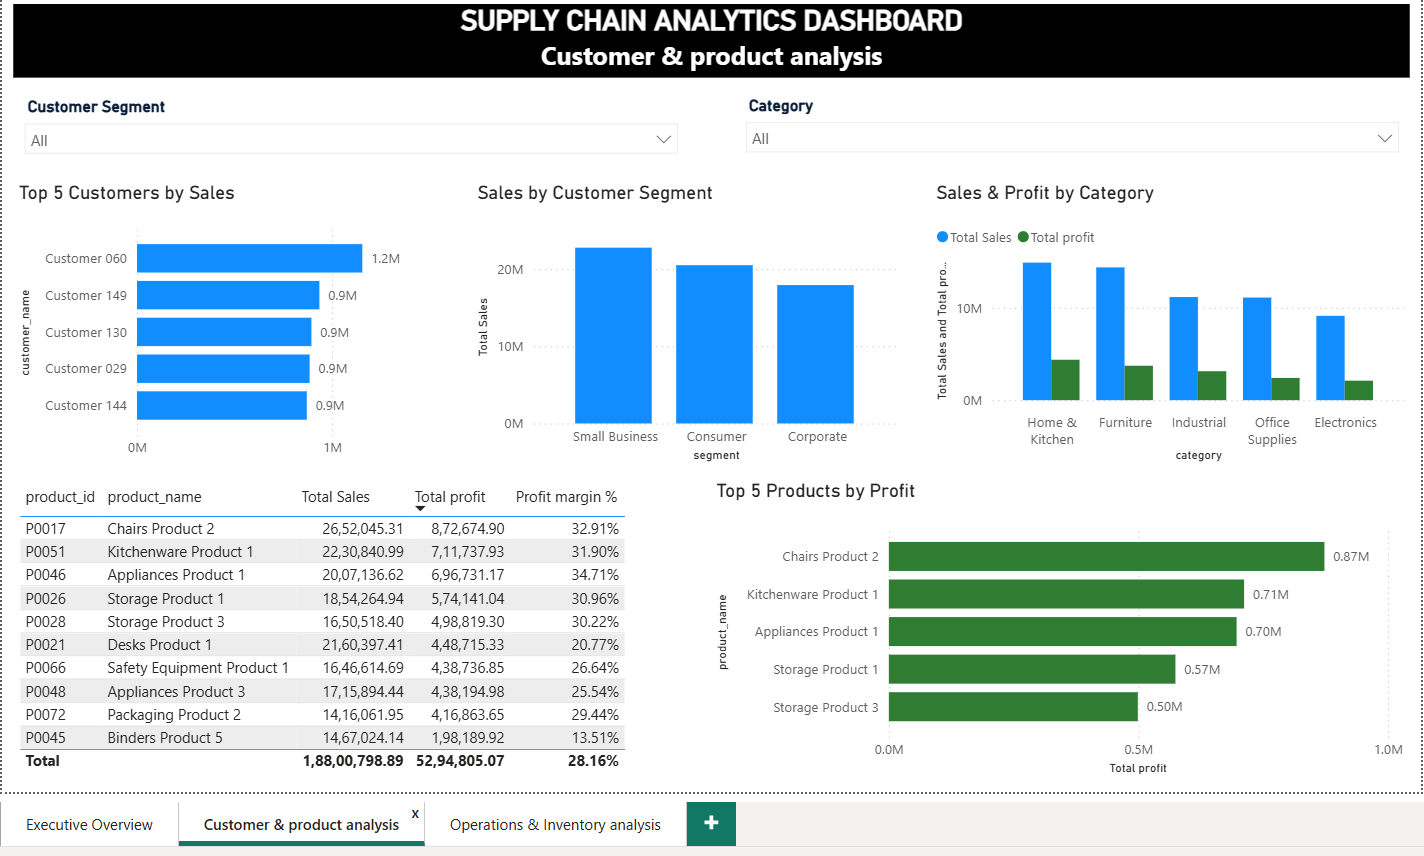

The dashboard page shown, as its layout file describes it:
{"tool":"powerbi","page":{"name":"Customer & product analysis","canvas":[1280,720],"ordinal":1},"visuals":[{"type":"textbox","title":"SUPPLY CHAIN ANALYTICS DASHBOARD","box":[9.8,8.6,1259.5,66],"z":0},{"type":"barChart","title":"Top 5 Customers by Sales","fields":{"Category":["customers_clean.customer_name"],"Y":["orders_clean.Total Sales"]},"box":[9.6,168.8,389.7,258],"z":1000},{"type":"clusteredColumnChart","title":" Sales by Customer Segment","fields":{"Category":["customers_clean.segment"],"Y":["orders_clean.Total Sales"]},"box":[424,168.8,389.7,258],"z":2000},{"type":"clusteredColumnChart","title":"Sales & Profit by Category","fields":{"Category":["products_clean.category"],"Y":["orders_clean.Total Sales","orders_clean.Total profit"]},"box":[837.1,168.8,432.2,258],"z":3000},{"type":"tableEx","fields":{"Values":["products_clean.product_id","products_clean.product_name","orders_clean.Total Sales","orders_clean.Total profit","orders_clean.Profit margin %"]},"box":[9.6,437.7,618.9,271.7],"z":4000},{"type":"barChart","title":"Top 5 Products by Profit","fields":{"Category":["products_clean.product_name"],"Y":["orders_clean.Total profit"]},"box":[639.5,437.7,629.8,271.7],"z":5000},{"type":"slicer","fields":{"Values":["customers_clean.segment"]},"box":[9.8,88,609,66],"z":6000},{"type":"slicer","fields":{"Values":["products_clean.category"]},"box":[660.3,86.8,609,67.3],"z":7000}]}

Visuals, with their boxes on the page's 1280x720 design canvas (x1, y1, x2, y2). These are canvas units, not pixel positions in the 1424x856 screenshot, which may show the page scaled, cropped or inside an application window:
"SUPPLY CHAIN ANALYTICS DASHBOARD" textbox: bbox(10, 9, 1269, 75)
"Top 5 Customers by Sales" barChart: bbox(10, 169, 399, 427)
" Sales by Customer Segment" clusteredColumnChart: bbox(424, 169, 814, 427)
"Sales & Profit by Category" clusteredColumnChart: bbox(837, 169, 1269, 427)
tableEx - products_clean.product_id x products_clean.product_name: bbox(10, 438, 628, 709)
"Top 5 Products by Profit" barChart: bbox(640, 438, 1269, 709)
slicer - customers_clean.segment: bbox(10, 88, 619, 154)
slicer - products_clean.category: bbox(660, 87, 1269, 154)
